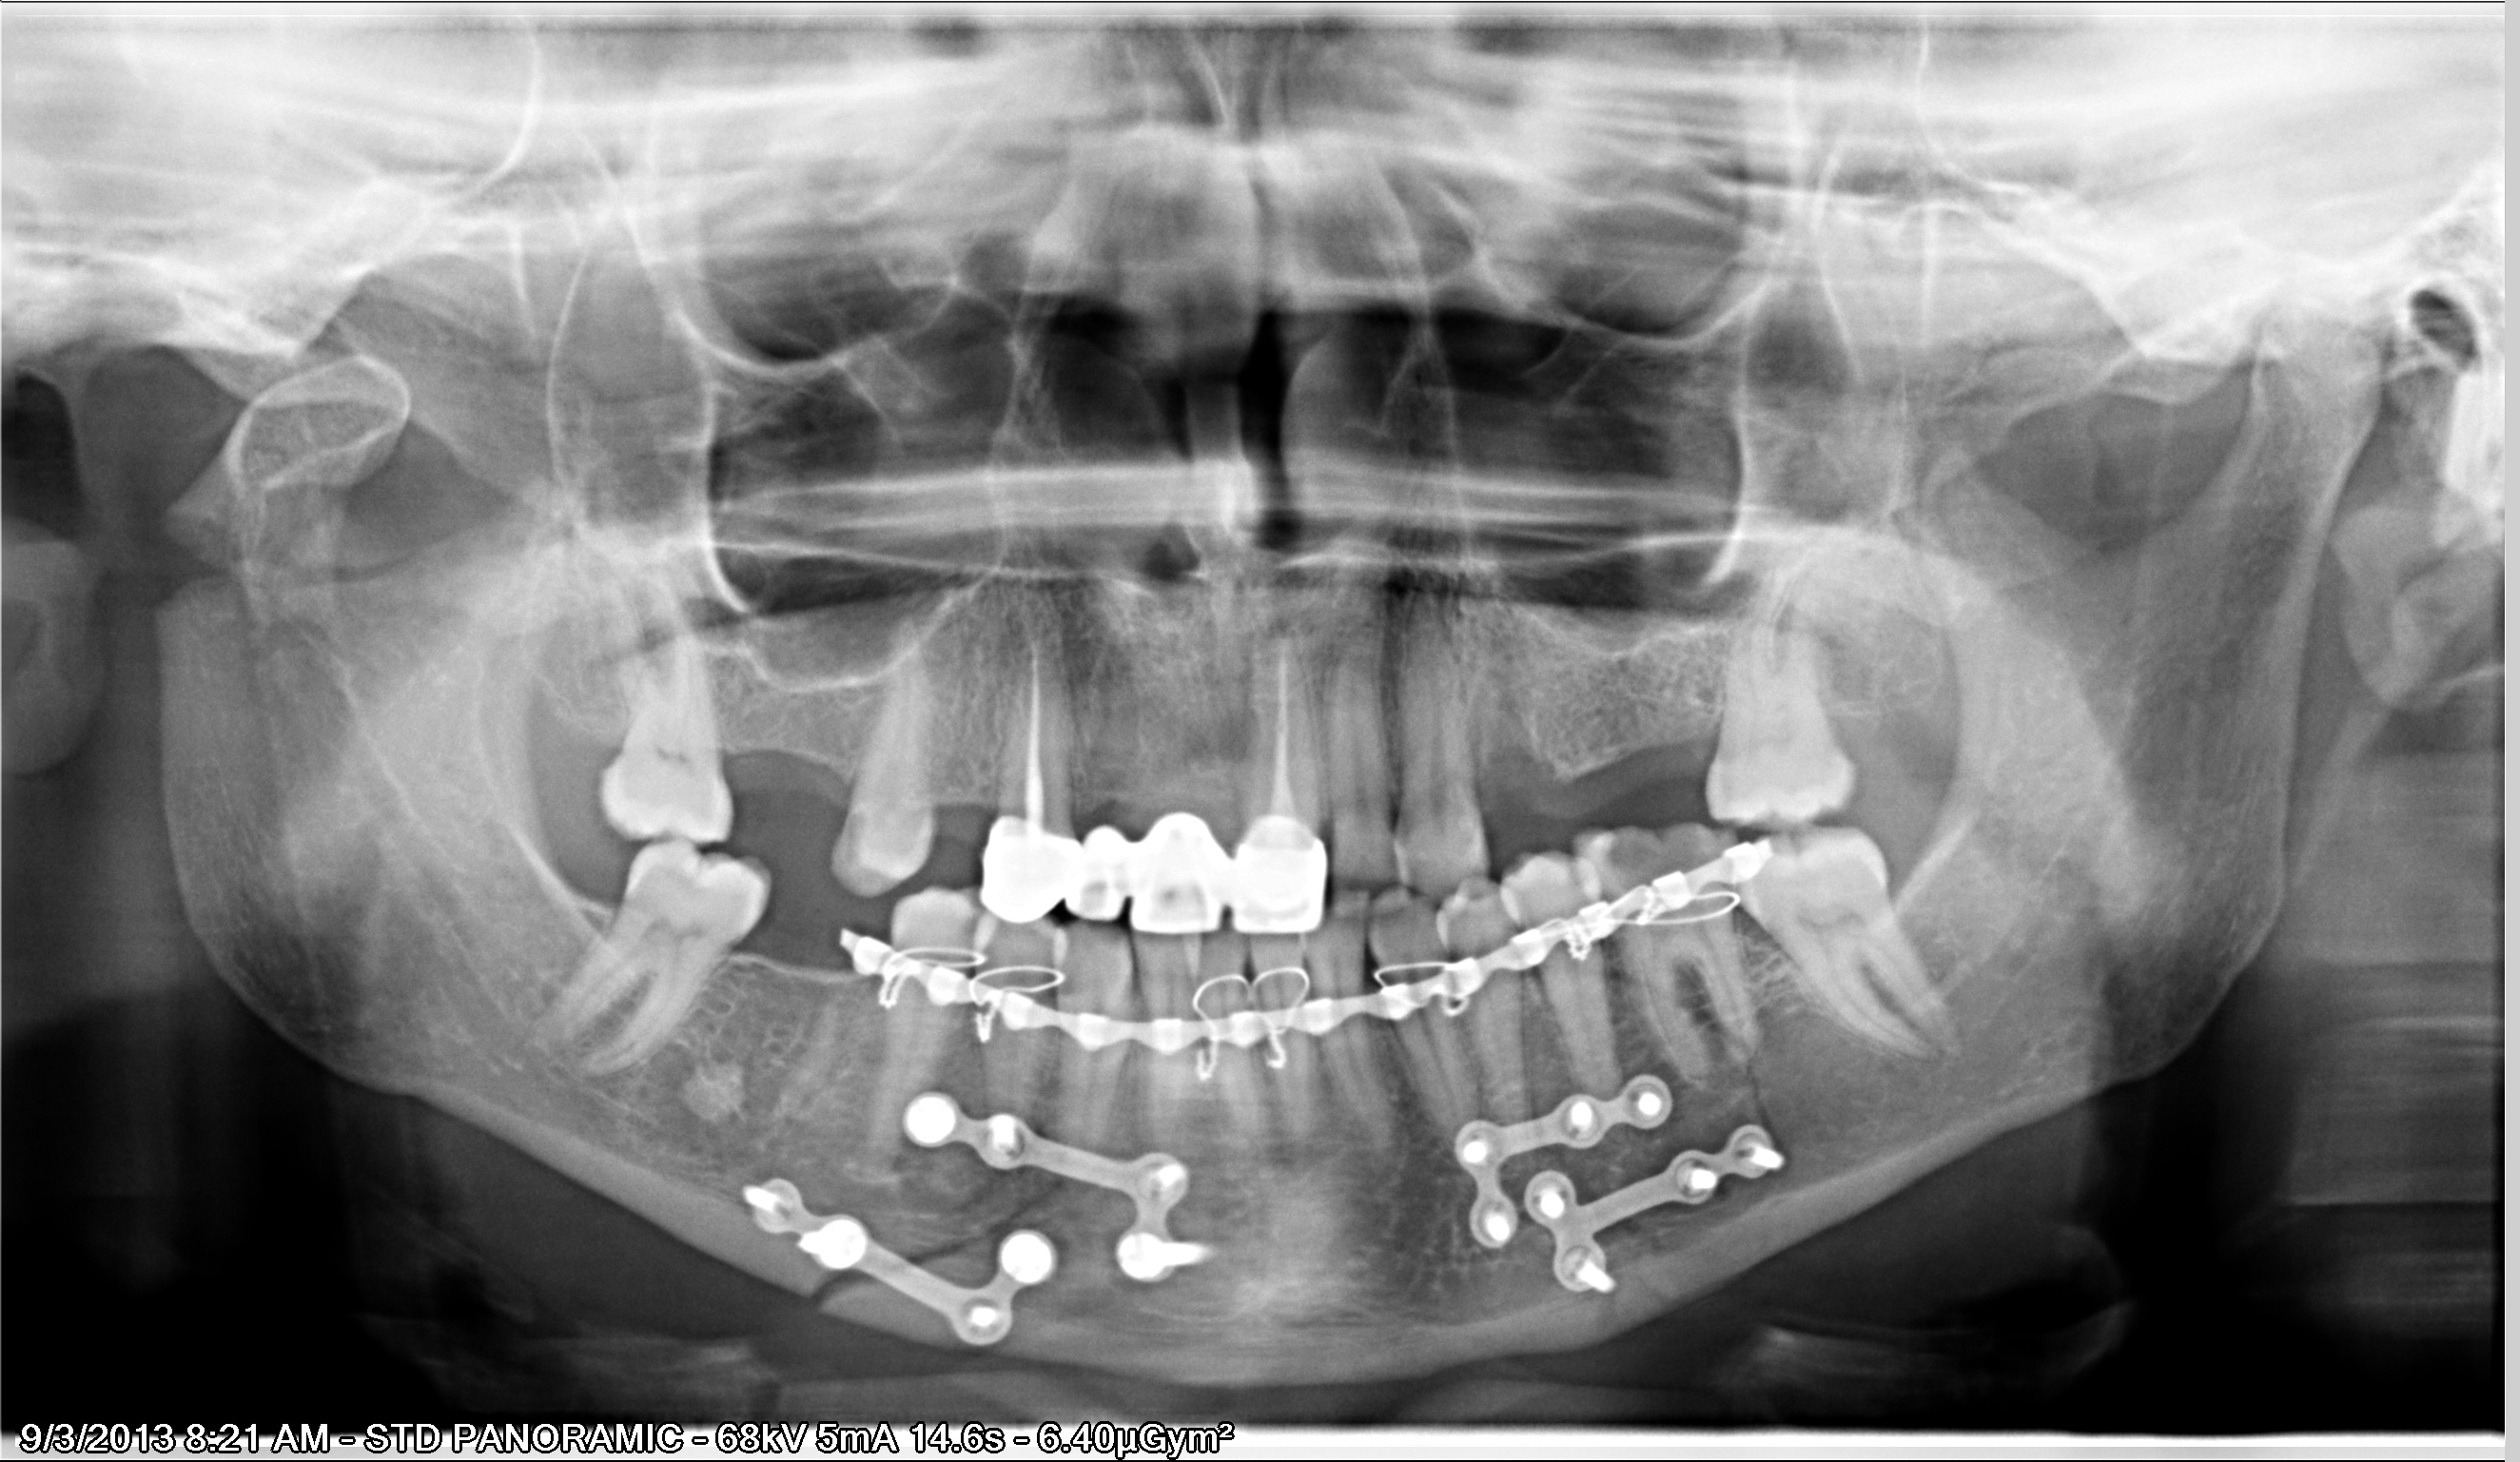END: (1257, 634, 1310, 816), (1015, 646, 1055, 832)
ORD: (1089, 942, 1404, 1067), (808, 919, 1088, 1055), (1566, 835, 1782, 957), (1403, 910, 1572, 1025)
PRR: (966, 815, 1333, 942)
SRD: (882, 1084, 1213, 1288), (734, 1171, 1062, 1354), (1514, 1116, 1784, 1302), (1439, 1069, 1683, 1255)
